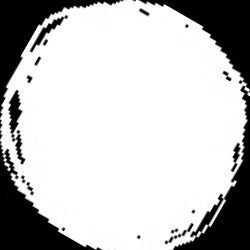spot: (0, 1, 247, 249)
